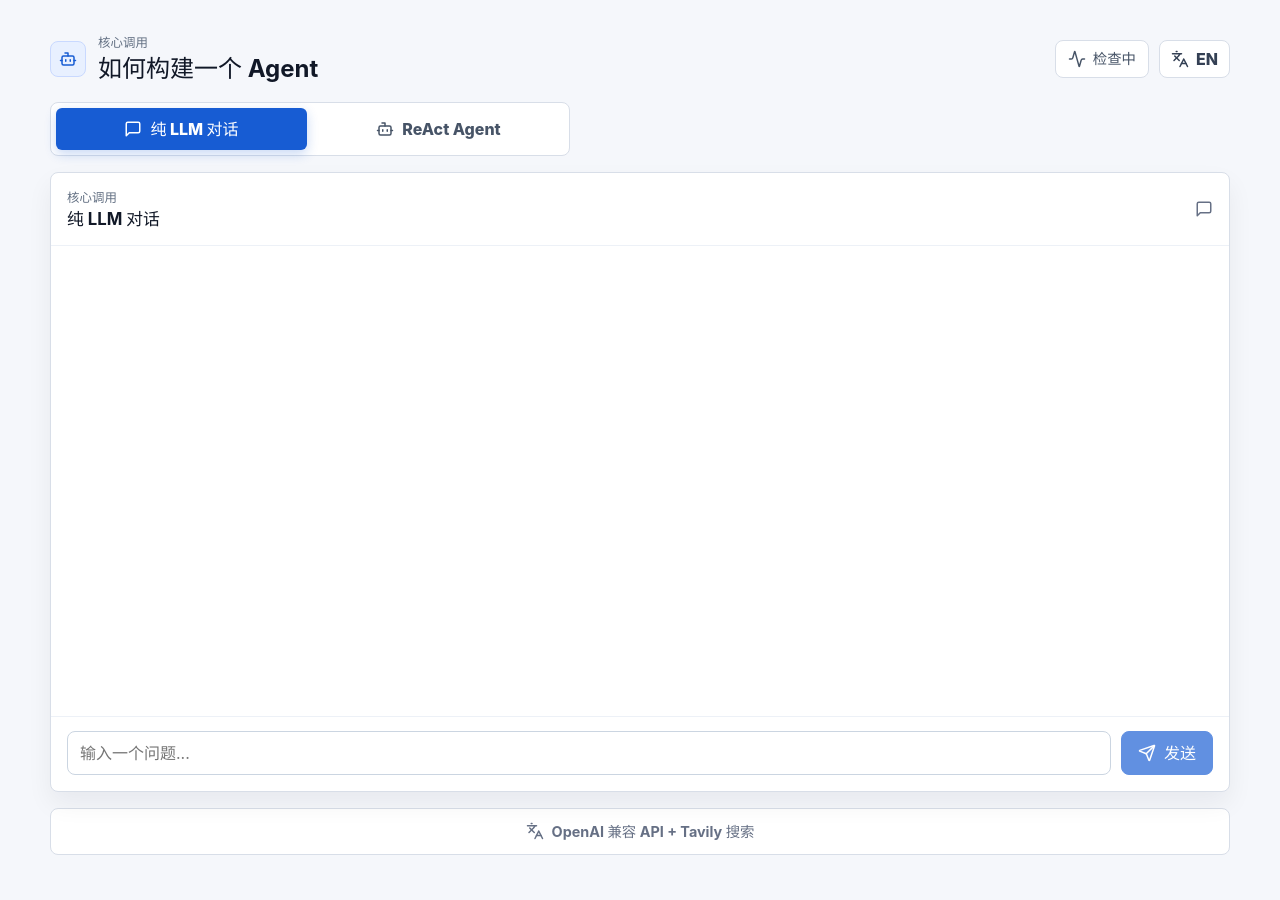
Test: App conversation UI › keeps pure chat and ReAct agent conversations separate across mode switches
This screenshot has width=1280, height=900.
Step 1. Type "先问纯 LLM" into the field with placeholder "输入一个问题..." → (589, 752), box [67,730,1111,774]
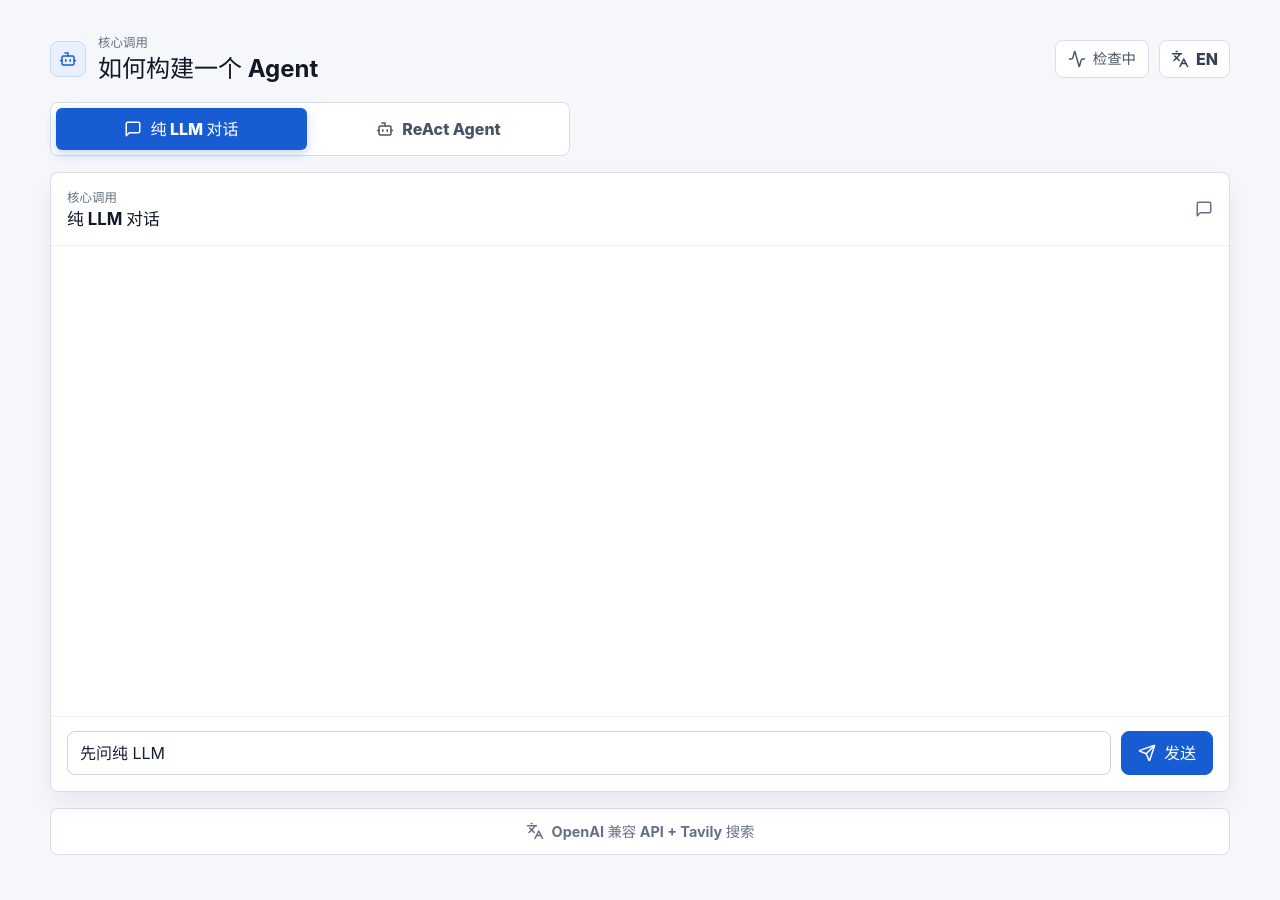
Step 2. Click the button "发送" → click(1167, 752), box [1121,730,1213,774]
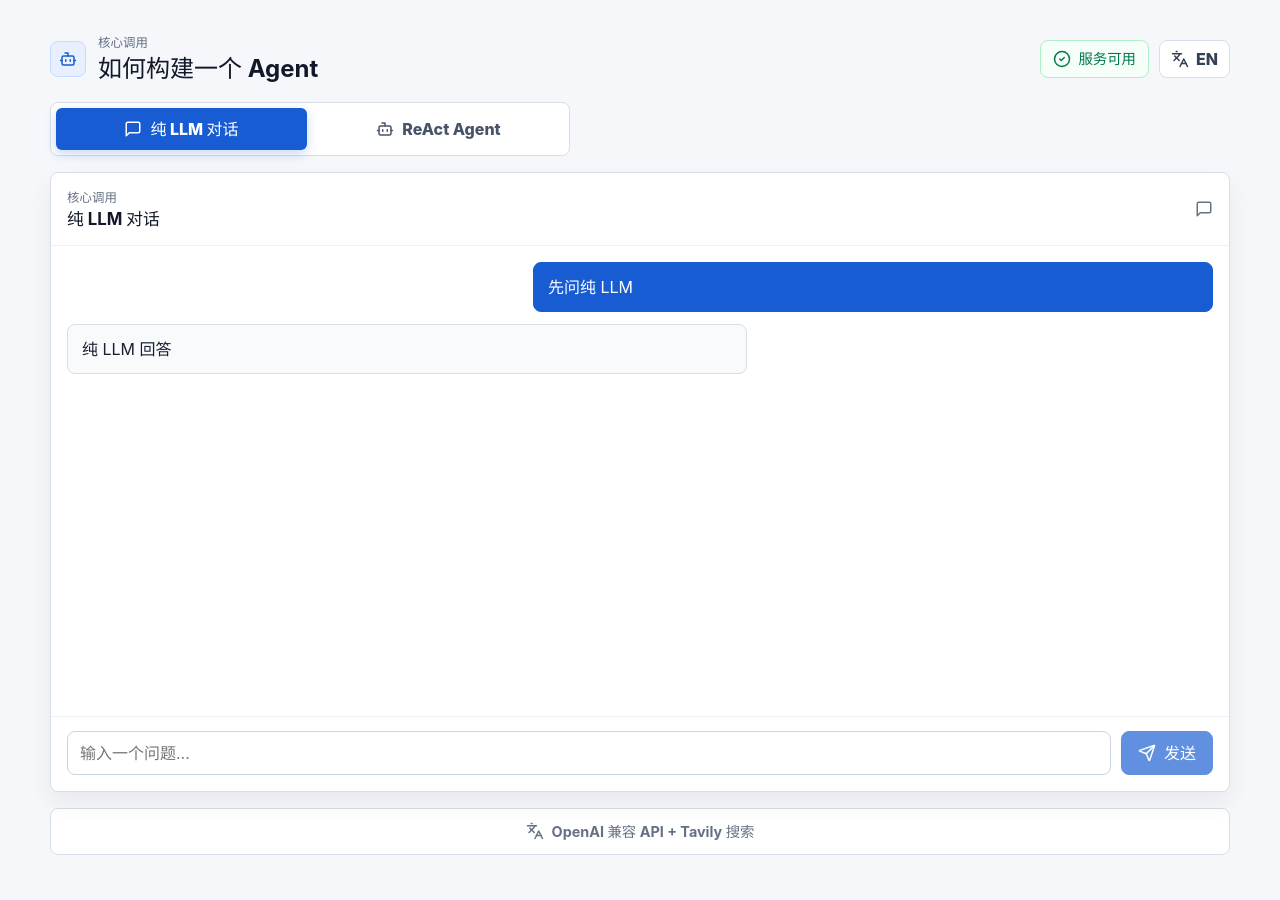
Expected: the text "纯 LLM 回答" is shown, [82,339,172,359]
Step 3. Click the button "ReAct Agent" → click(438, 128), box [313,108,564,150]
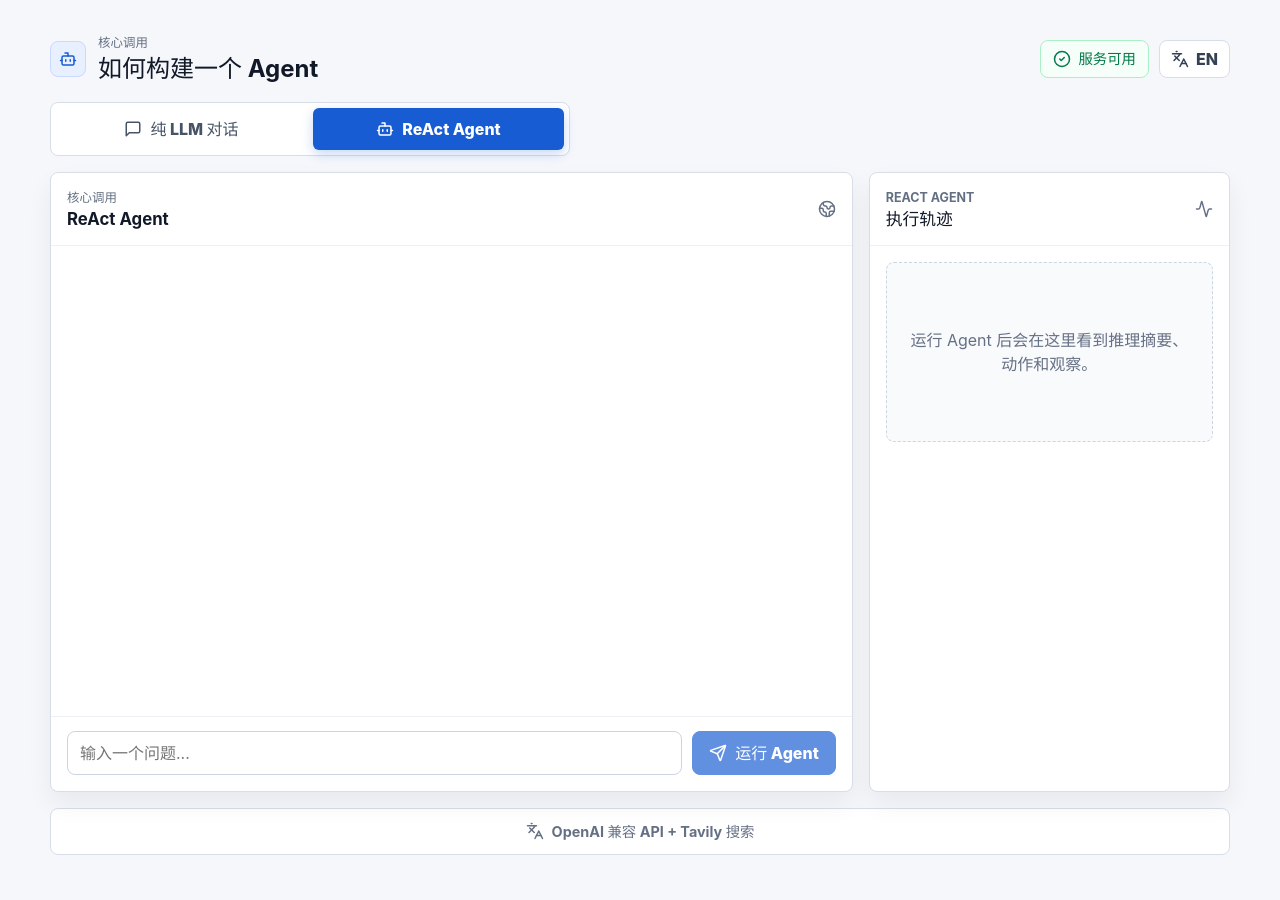
Expected: the text "纯 LLM 回答" is gone
Step 4. Type "再问 Agent" into the field with placeholder "输入一个问题..." → (375, 752), box [67,730,682,774]
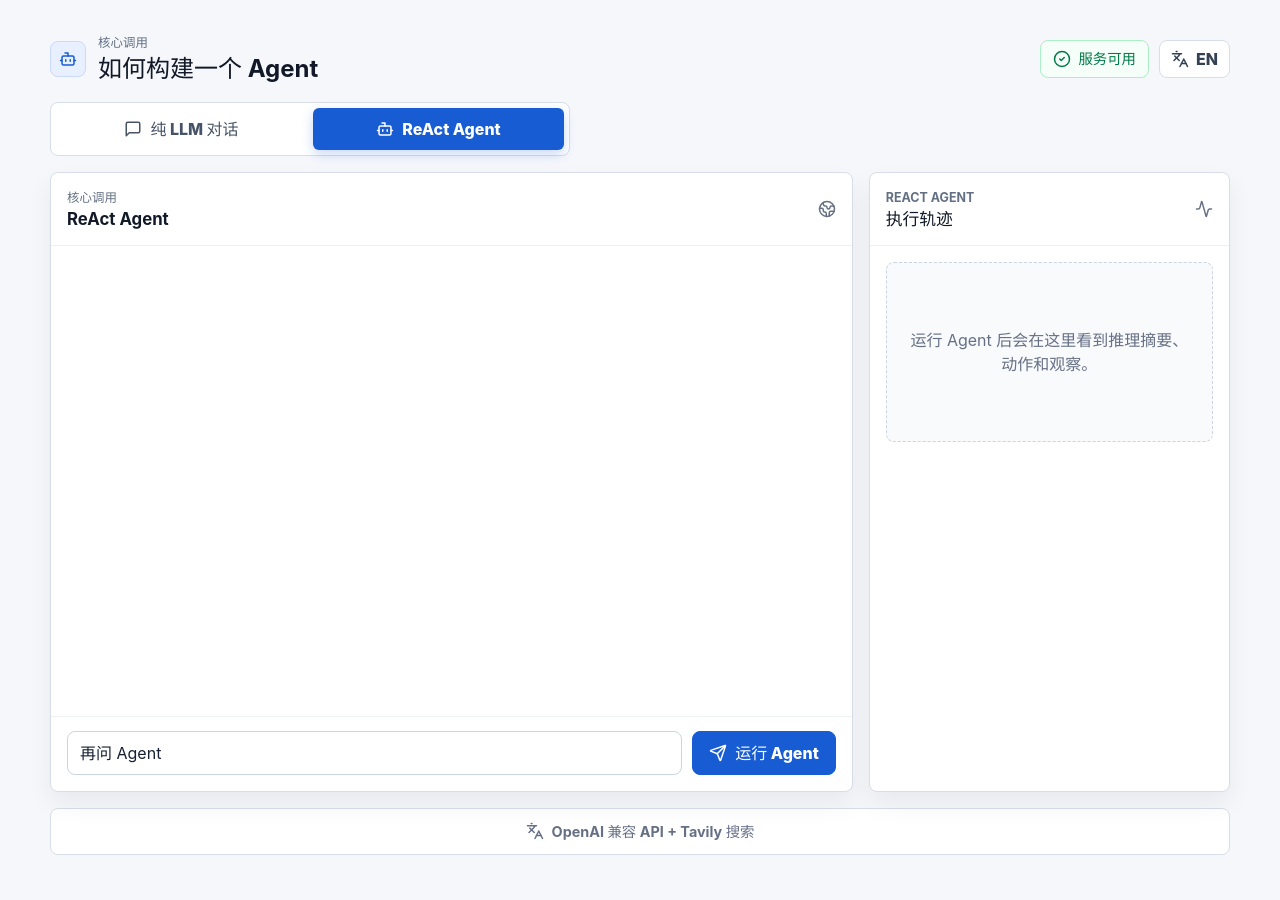
Step 5. Click the button "运行 Agent" → click(764, 752), box [692,730,836,774]
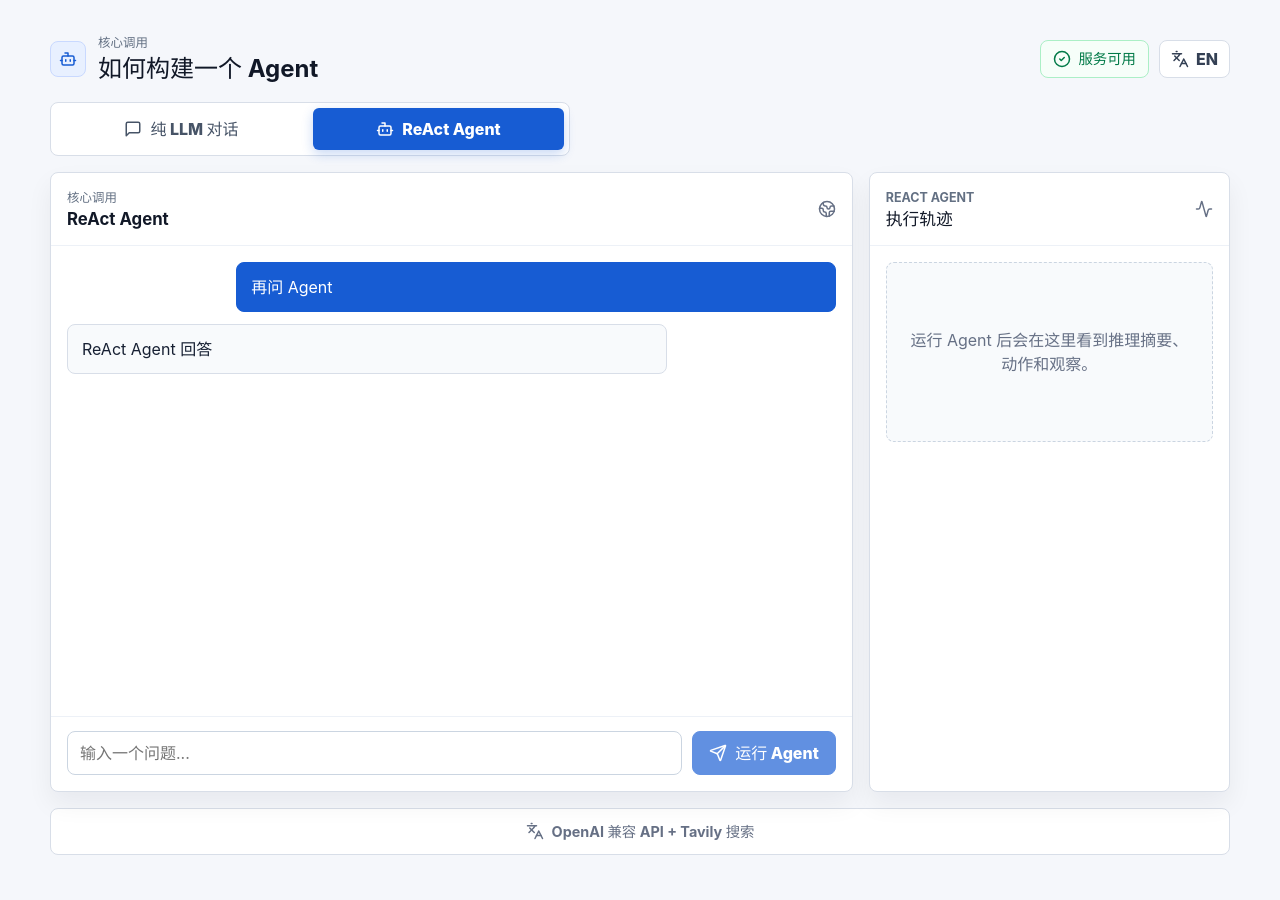
Expected: the text "ReAct Agent 回答" is shown, [82,339,212,359]
Step 6. Click the button "纯 LLM 对话" → click(182, 128), box [56,108,307,150]
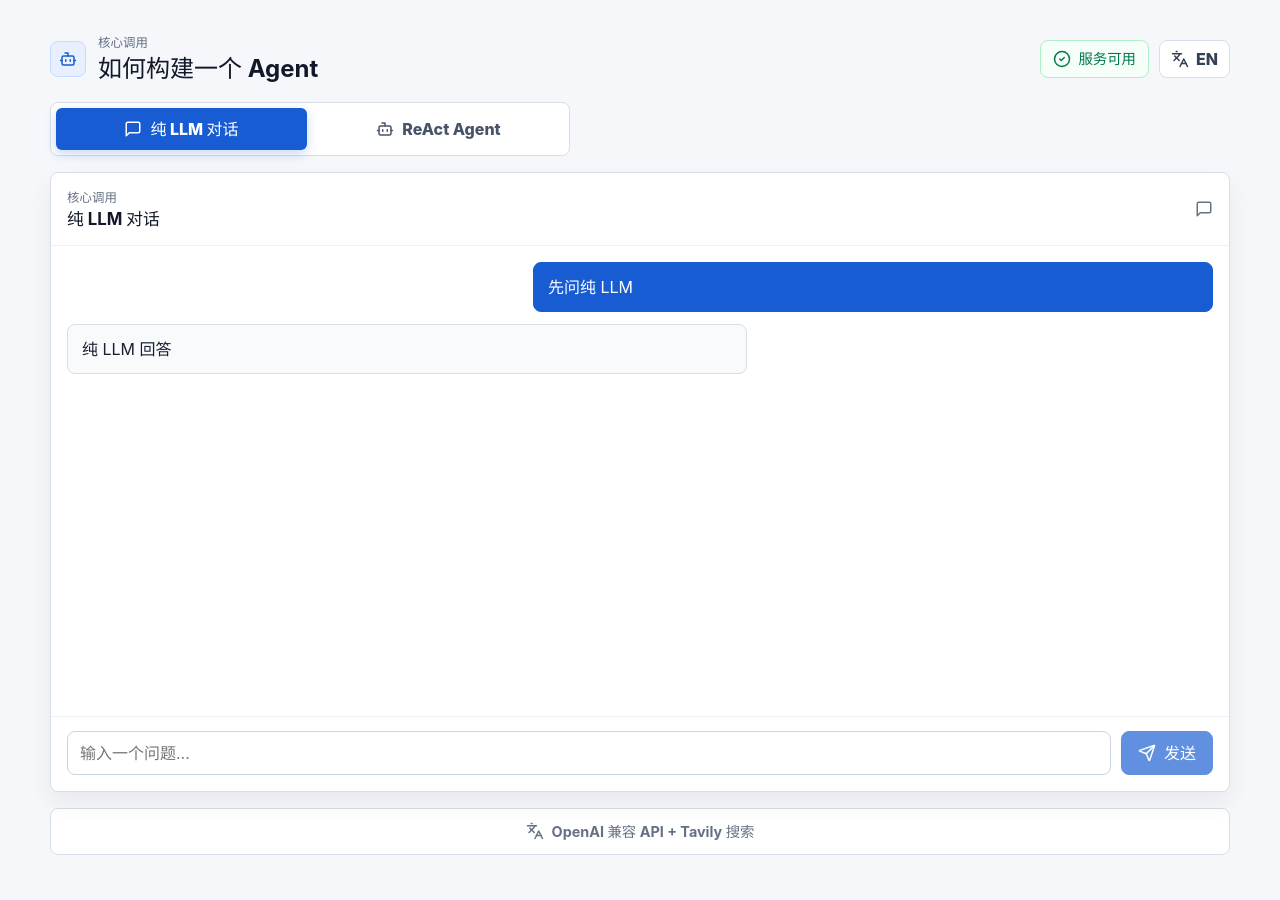
Expected: the text "纯 LLM 回答" is shown, [82,339,172,359]
Expected: the text "ReAct Agent 回答" is gone
